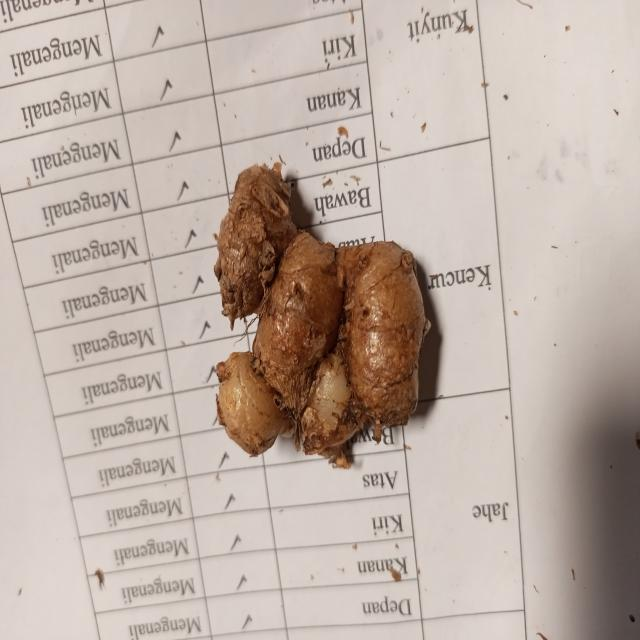ginger: (218, 176, 420, 460)
